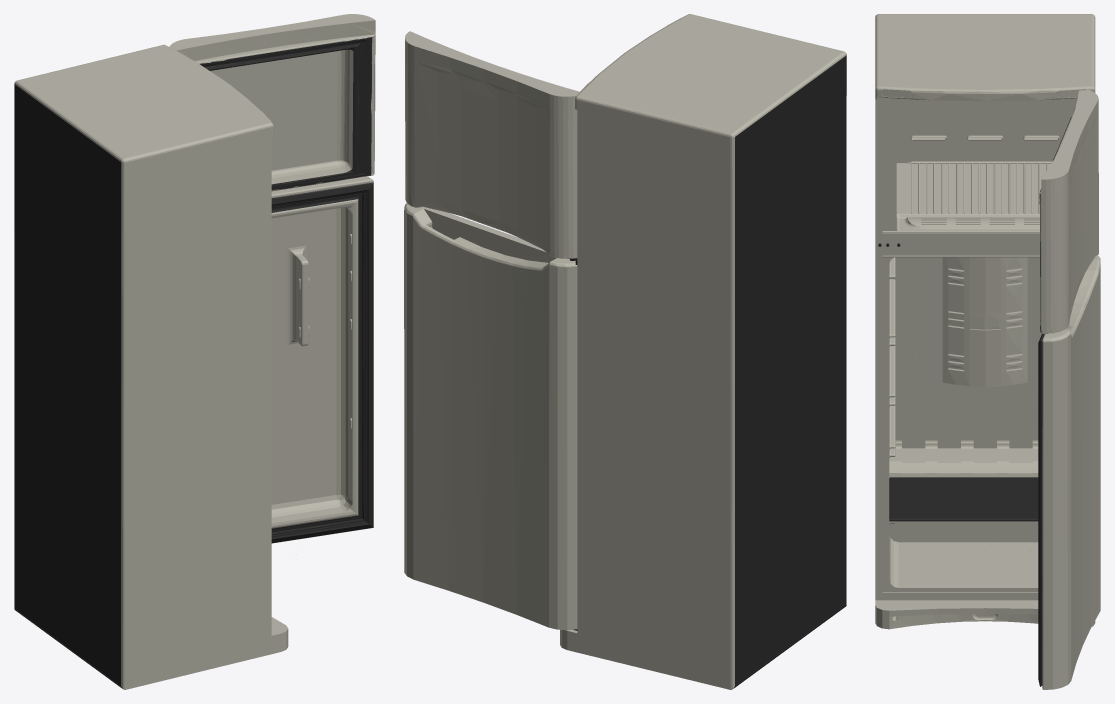
File: Refrigerator Open A1.obj
3 renders of one model, left to right at view 1: azimuth 30°, elevation 25°; view 2: azimuth 150°, elevation 25°; view 3: azimuth 270°, elevation 25°, orthographic. The views are drawn at different scales.
Parts seen in each view (by area): view 1: Frigor01; view 2: Frigor01; view 3: Frigor01.
Part boxes in pixels (bbox=[...]): Frigor01: bbox=[14, 14, 375, 689]; Frigor01: bbox=[404, 14, 846, 689]; Frigor01: bbox=[875, 14, 1100, 689].
Bounding box in the file's own units: 48.76 × 73.62 × 28.25.
